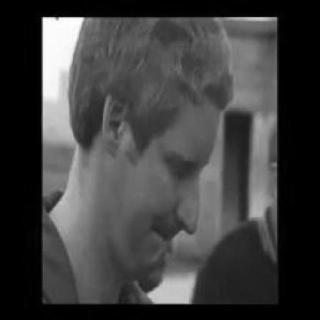other: (231, 94, 271, 214)
